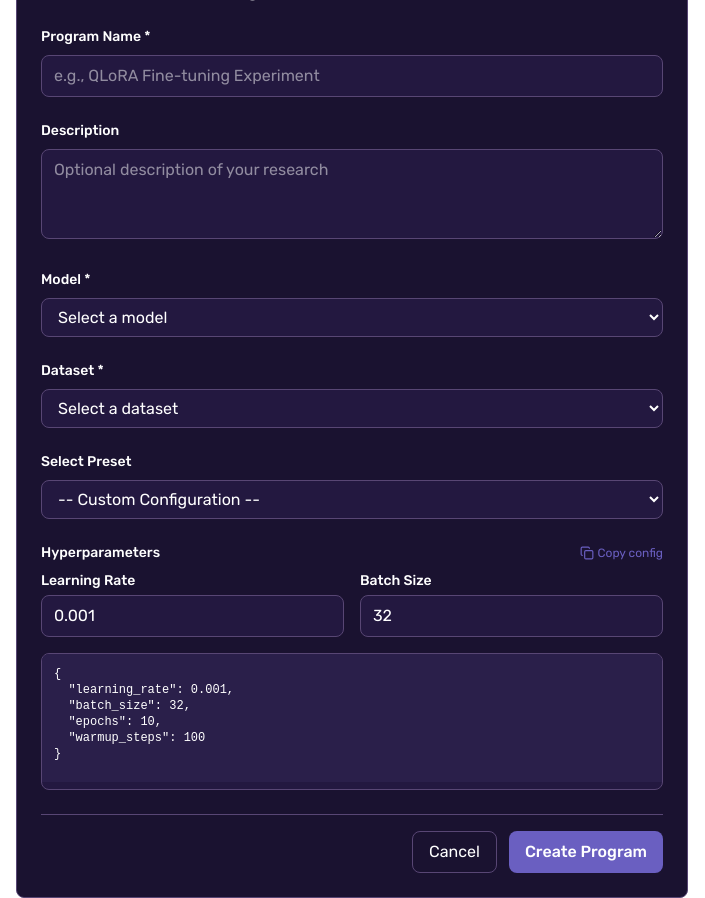
it: ResearchProgramEditor › Accessibility › should have accessible form validation messages
(page scrolled)
Click the button "Create Program": (586, 852) left=509, top=831, right=663, bottom=873
(page scrolled)
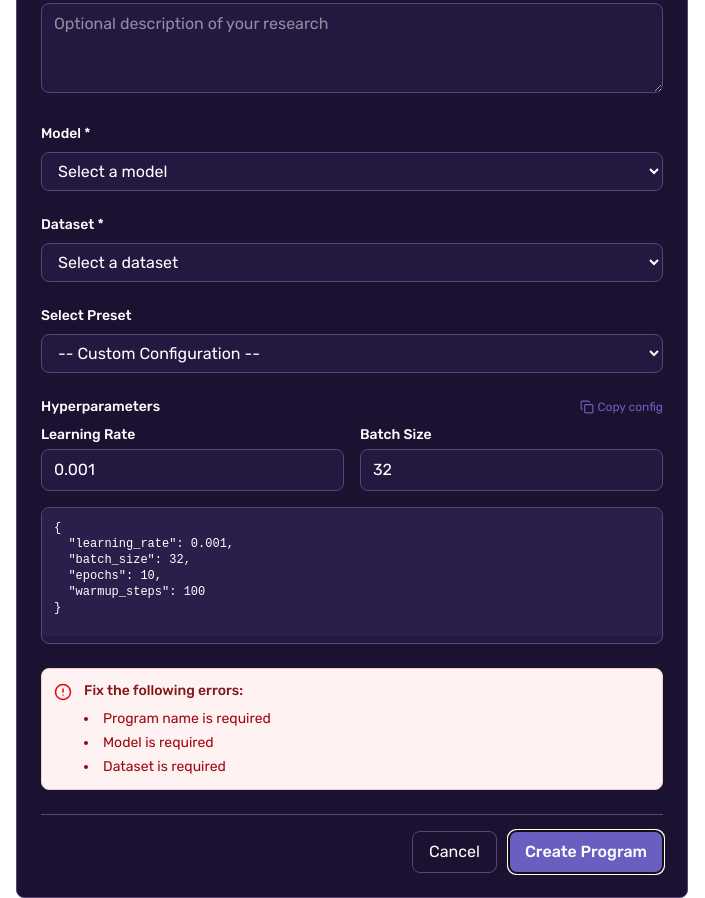
Now the message is shown, box left=41, top=668, right=663, bottom=790
